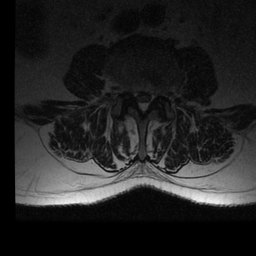CCS_normal: (139, 85, 146, 119)
LFS_severe_stenosis: (156, 83, 163, 103)
LLS_normal: (146, 85, 155, 107)
RFS_severe_stenosis: (124, 83, 132, 102)
RLS_normal: (132, 84, 139, 109)
